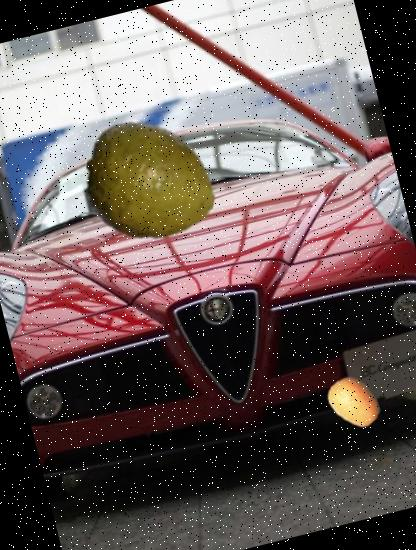Guava: (71, 103, 231, 263)
Kumquats: (322, 370, 388, 437)
